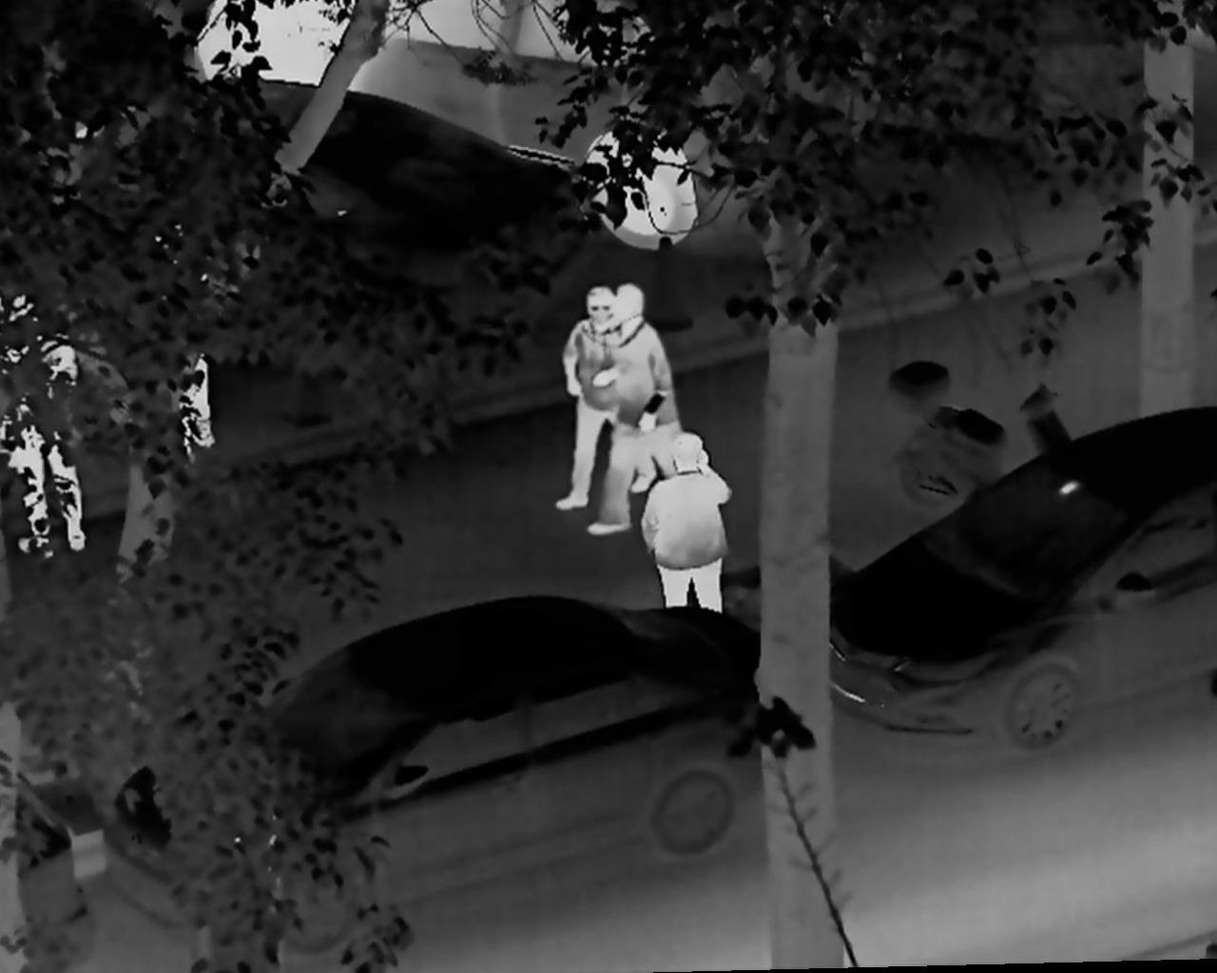person: (585, 280, 714, 538), (550, 282, 659, 515), (146, 217, 222, 469), (640, 431, 735, 619)
